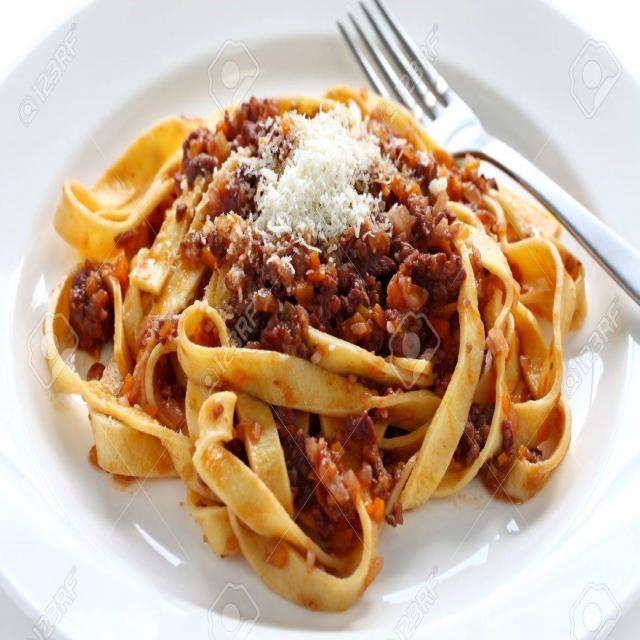Pasta al ragu: (75, 75, 606, 551)
